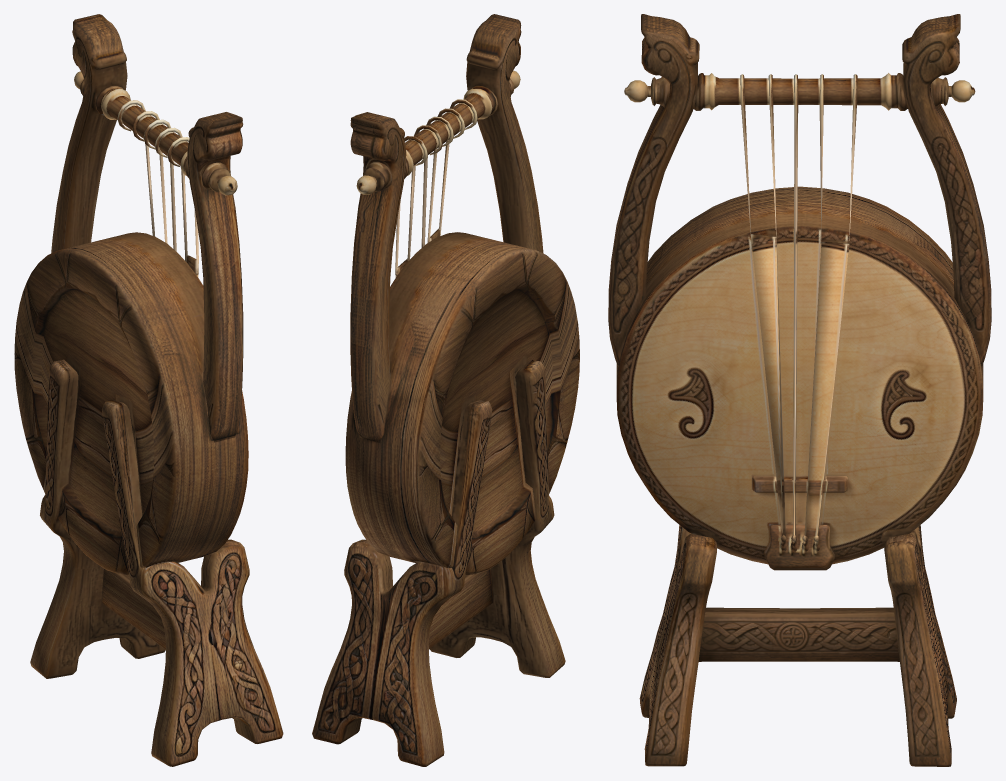
File: SM_Env_HeorotScopLyre.fbx
3 views of the same model, side by side, from view 1: azimuth 30°, elevation 25°; view 2: azimuth 150°, elevation 25°; view 3: azimuth 270°, elevation 25° (orthographic). The views are drawn at different scales.
Visible parts, largest first — view 1: SM_Env_HeorotScopLyre; view 2: SM_Env_HeorotScopLyre; view 3: SM_Env_HeorotScopLyre.
Boxes of the visible parts, x1=… form: SM_Env_HeorotScopLyre: x1=14, y1=14, x2=283, y2=766; SM_Env_HeorotScopLyre: x1=312, y1=14, x2=579, y2=766; SM_Env_HeorotScopLyre: x1=608, y1=14, x2=991, y2=766.
Size of the model in its own units: 5.36 by 11.62 by 24.
1 material, 1 textured.
